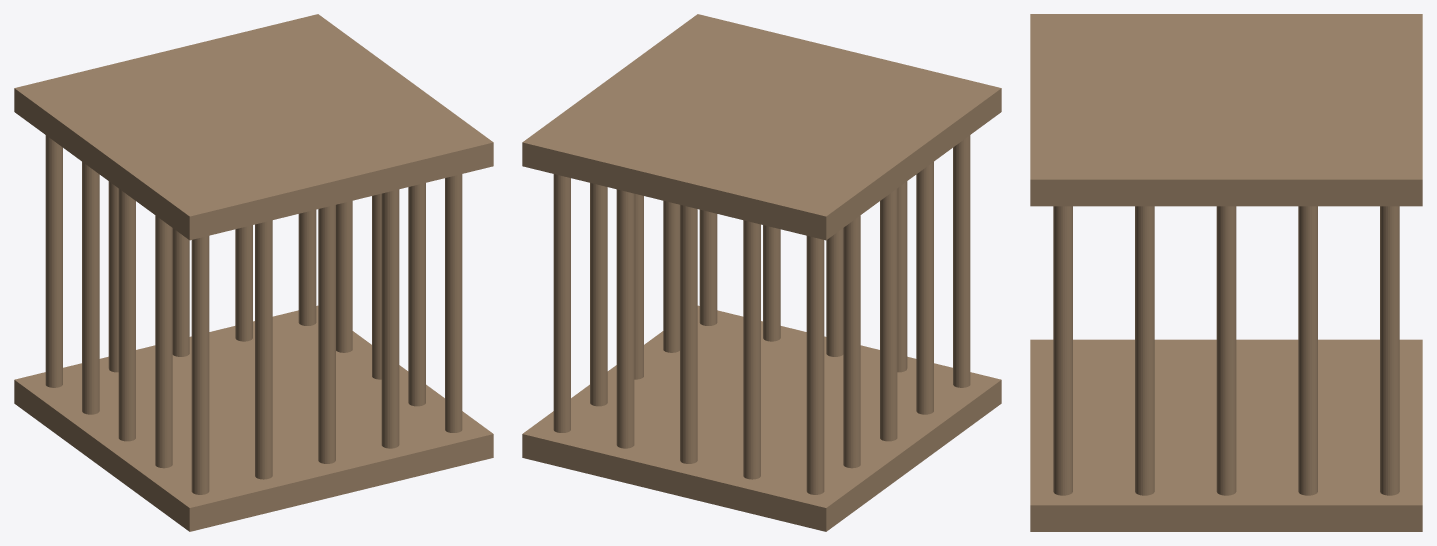
File: prisoner_cage.glb
3 renders of one model, left to right at view 1: azimuth 30°, elevation 25°; view 2: azimuth 150°, elevation 25°; view 3: azimuth 270°, elevation 25°, orthographic. The views are drawn at different scales.
Visible parts, largest first — view 1: PrisonerCage; view 2: PrisonerCage; view 3: PrisonerCage.
Part boxes in pixels (<box>): PrisonerCage: <box>14,14,493,531</box>; PrisonerCage: <box>522,14,1001,531</box>; PrisonerCage: <box>1030,14,1422,531</box>.
Size of the model in its own units: 2.4 by 2.38 by 2.4.
